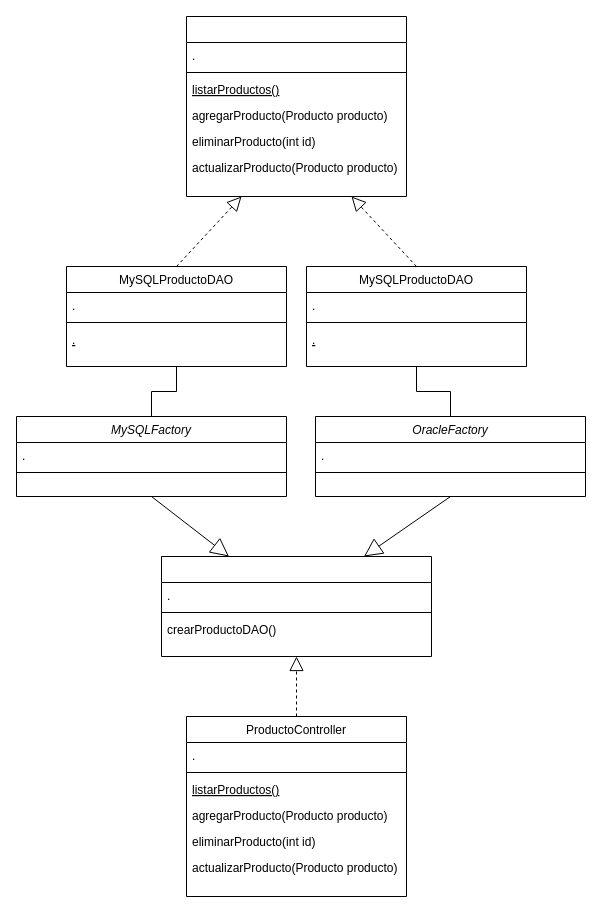
Some shapes in this 602 by 913 pixel diagram are drawn without their labels. The shapes that lost their labels are listed below. From the top down, each one's box as (x1, y1, x2, y2) in pixels, then its label:
(186, 16, 406, 196): ProductoDAO
(160, 556, 432, 656): DatabaseFactory
